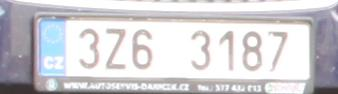1: (220, 30, 234, 70)
3: (190, 30, 210, 70), (79, 29, 98, 69)
6: (132, 30, 152, 69)
7: (267, 31, 289, 71)
8: (242, 31, 261, 70)
Z: (106, 29, 127, 70)
